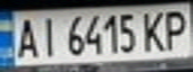1: (100, 11, 121, 54)
4: (81, 11, 103, 56)
5: (118, 10, 139, 54)
6: (63, 12, 84, 56)
A: (12, 15, 42, 60)
I: (36, 14, 60, 58)
K: (139, 8, 169, 53)
P: (160, 7, 193, 52)
